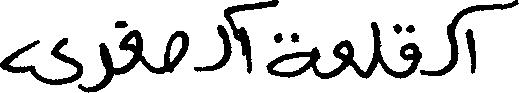X: (0, 33, 81, 92), (466, 0, 518, 78), (270, 0, 316, 82), (197, 2, 230, 76), (83, 38, 111, 92), (122, 16, 141, 78), (448, 4, 464, 76), (165, 26, 187, 77), (401, 20, 418, 82), (333, 35, 353, 81), (242, 0, 251, 78), (373, 17, 380, 75)
